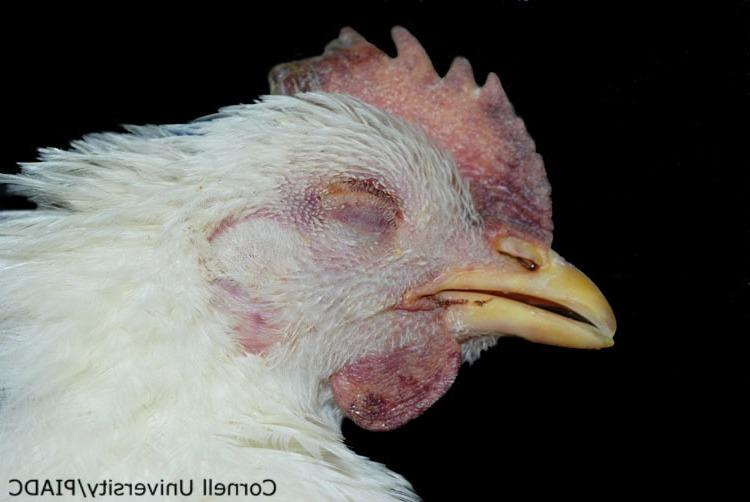AbNormal: (274, 16, 554, 249)
